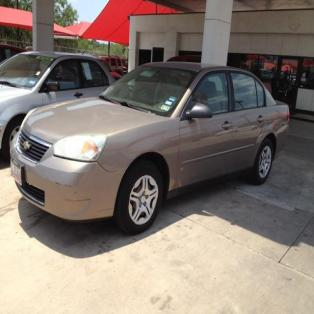Auto: (11, 63, 289, 224)
